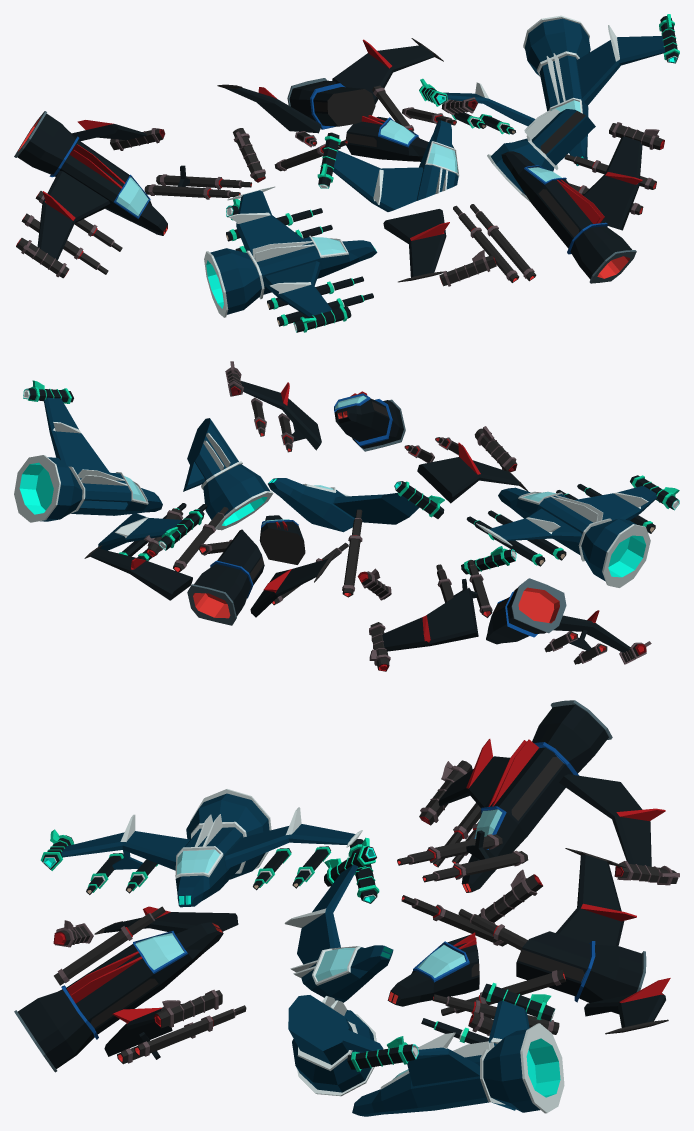
The model's file is FighterCrashSite_01.fbx.
The picture shows the model from 3 angles, top to bottom: view 1: azimuth 30°, elevation 25°; view 2: azimuth 150°, elevation 25°; view 3: azimuth 270°, elevation 25°; orthographic projection. The views are drawn at different scales.
Visible parts, largest first — view 1: FighterCrashSite.01_LOD0; view 2: FighterCrashSite.01_LOD0; view 3: FighterCrashSite.01_LOD0.
Boxes of the visible parts, x1,y1,x2,y2 form: FighterCrashSite.01_LOD0: (14, 14, 679, 332); FighterCrashSite.01_LOD0: (14, 361, 679, 671); FighterCrashSite.01_LOD0: (14, 700, 679, 1116).
Size of what is drawn, in the model's own units: 6922 by 1421 by 4878.
Materials: 1 (1 with a texture image).
